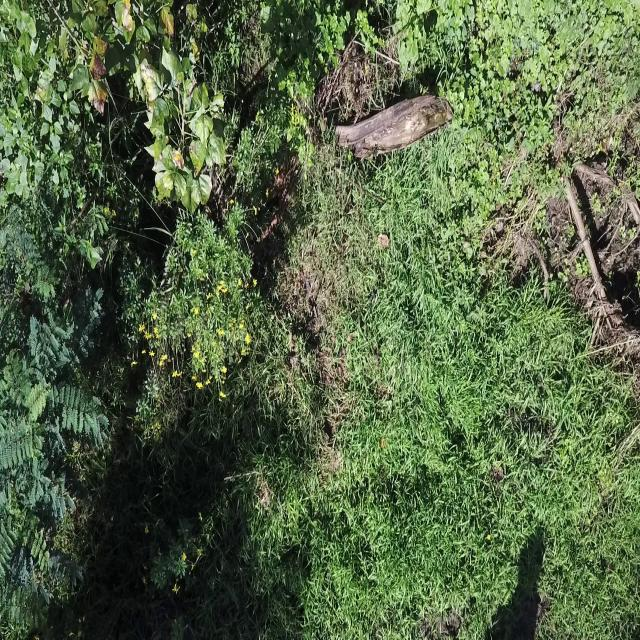Mysore-Thorn-Weed: (0, 306, 109, 529), (0, 520, 87, 616), (0, 207, 48, 264)
